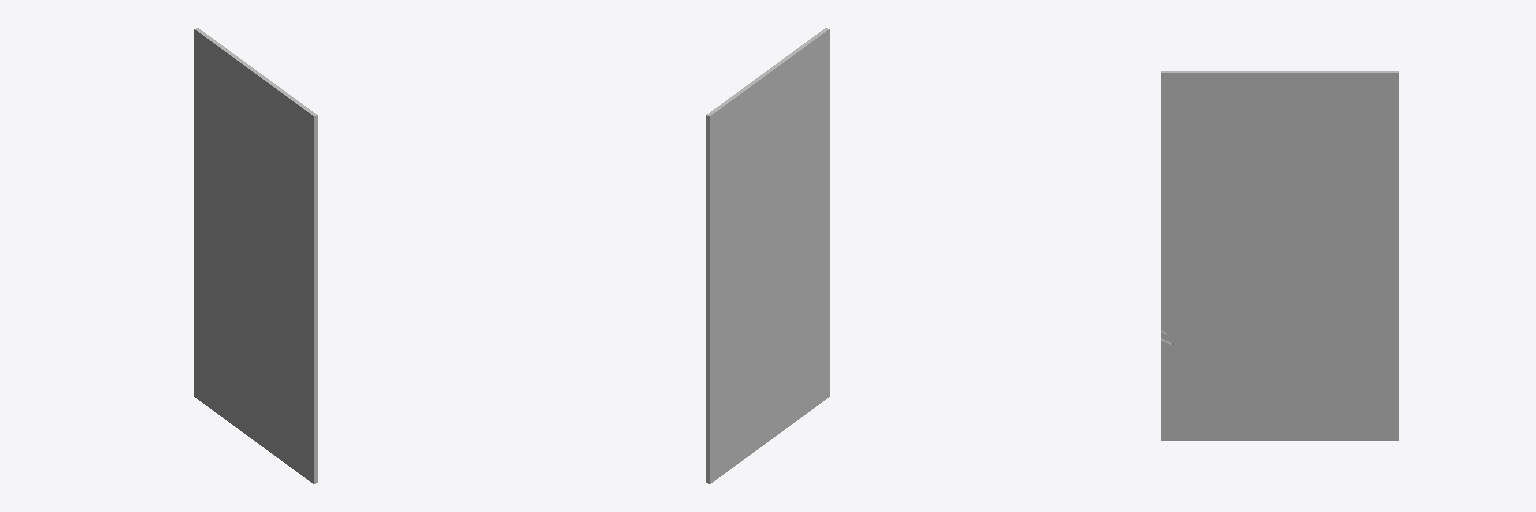
The picture shows the model from 3 angles: view 1: azimuth 30°, elevation 25°; view 2: azimuth 150°, elevation 25°; view 3: azimuth 270°, elevation 25°; orthographic projection.
Visible parts, largest first — view 1: back6_zoetrope.309; view 2: back6_zoetrope.309; view 3: back6_zoetrope.309.
Part boxes in pixels (x1,y1,x2,y2): back6_zoetrope.309: (194, 28, 317, 483); back6_zoetrope.309: (706, 28, 829, 483); back6_zoetrope.309: (1161, 71, 1398, 440).
Bounding box in the file's own units: 0.0109 × 0.9246 × 0.5439.